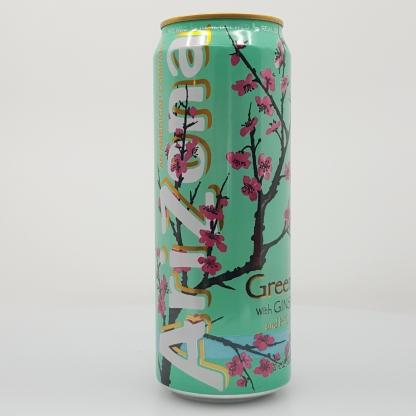-------------------680ML: (153, 13, 292, 403)
